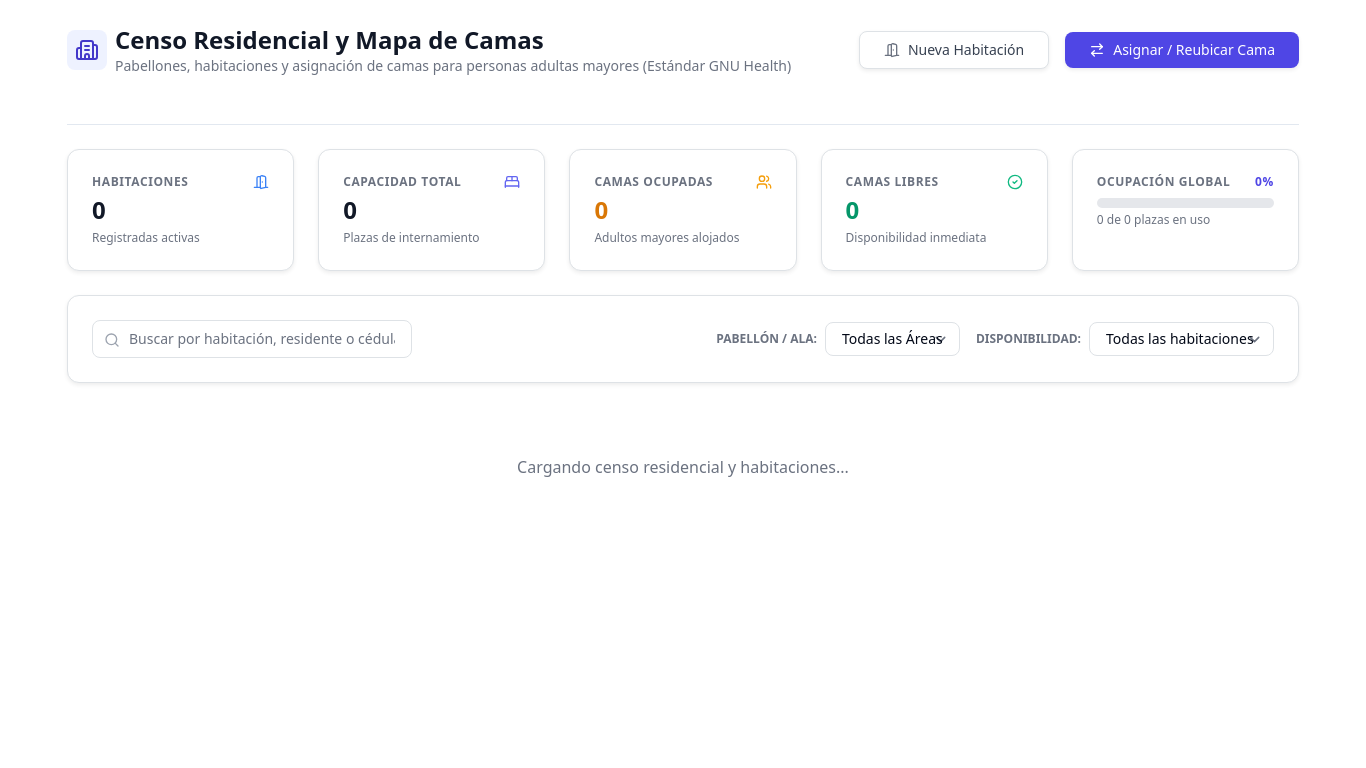
Scenario: InpatientCensusPage › permite abrir el modal de asignación de cama
What coordinates should you click on to do the following:
click the button "Asignar / Reubicar Cama"
I would click on:
 (1182, 50)
Its box is left=1065, top=32, right=1299, bottom=68.
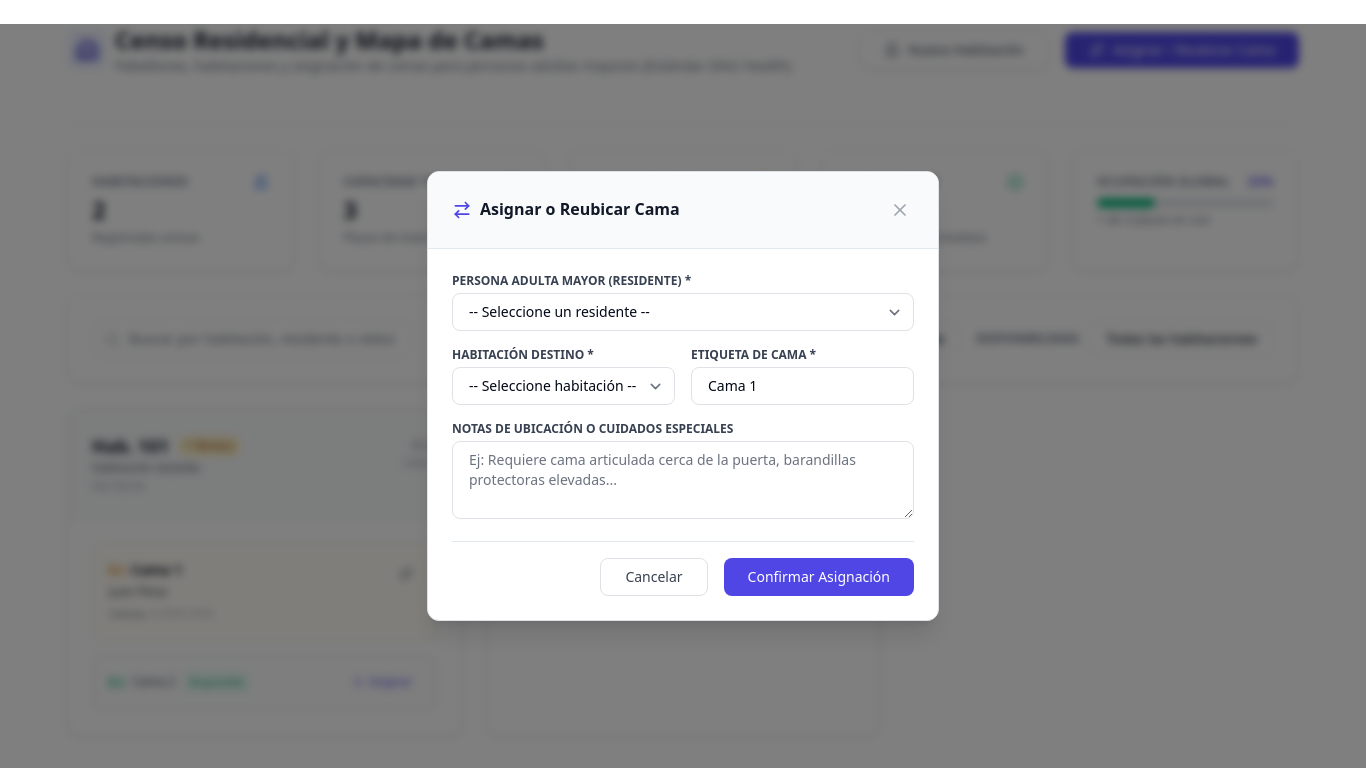
Check: the heading "Asignar o Reubicar Cama" is shown, box left=480, top=200, right=680, bottom=220
Check: the text "Persona Adulta Mayor (Residente) *" is shown, box left=452, top=272, right=691, bottom=289
